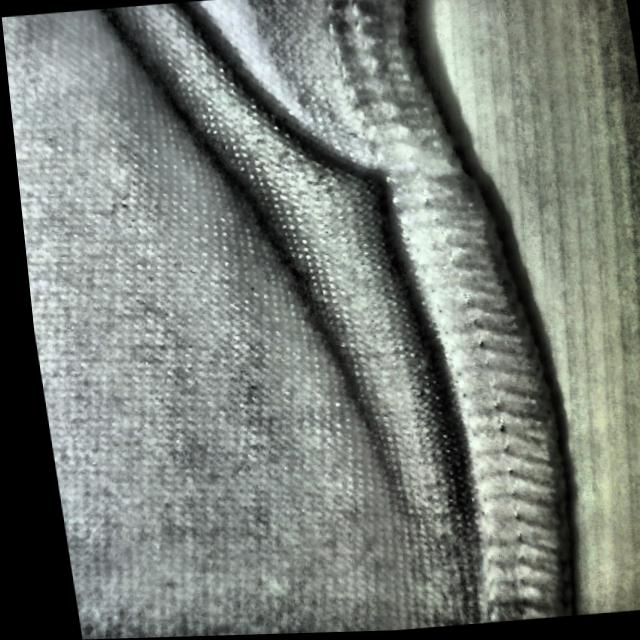seam: (214, 95, 504, 328)
